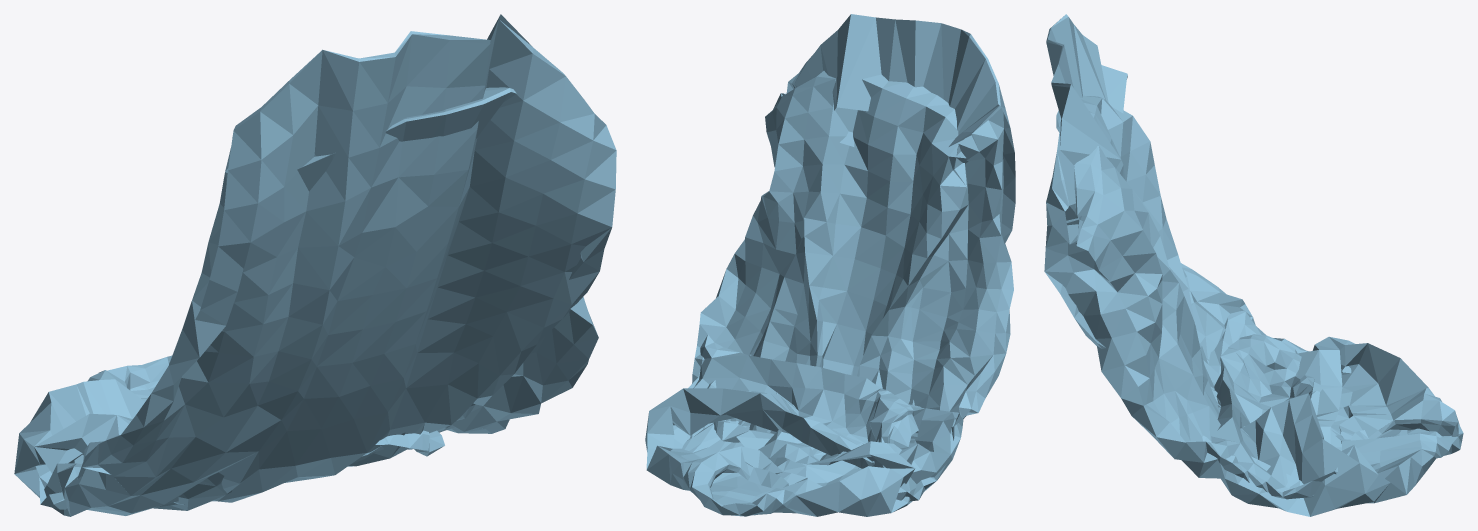
File: frame_08.glb
3 renders of one model, left to right at view 1: azimuth 30°, elevation 25°; view 2: azimuth 150°, elevation 25°; view 3: azimuth 270°, elevation 25°, orthographic. The views are drawn at different scales.
Parts seen in each view (by area): view 1: frame_08.obj; view 2: frame_08.obj; view 3: frame_08.obj.
Part boxes in pixels (box(x1,y1,x2,y2)): frame_08.obj: box(14, 14, 616, 516); frame_08.obj: box(645, 14, 1015, 516); frame_08.obj: box(1044, 14, 1463, 516).
Size of the model in its own units: 1.05 by 1.26 by 1.18.
